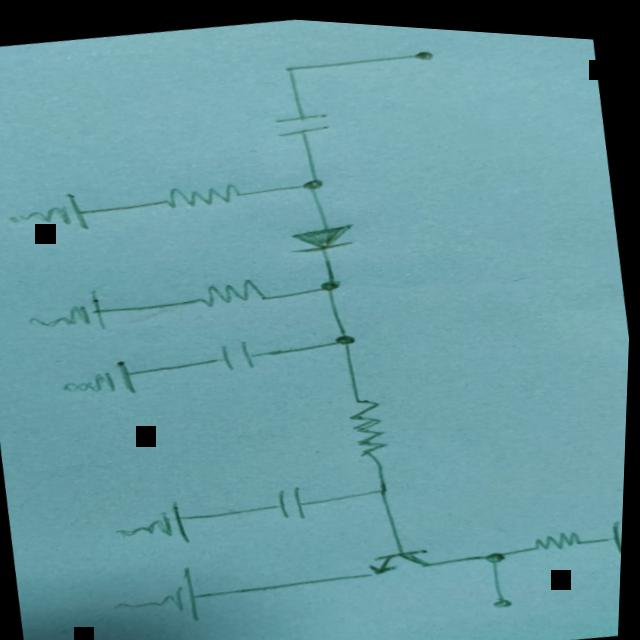capacitor: (277, 102, 332, 139), (273, 478, 319, 518), (218, 334, 261, 370)
diode: (290, 213, 359, 255)
ground: (106, 556, 218, 634), (24, 281, 116, 342), (5, 183, 100, 242), (111, 491, 201, 553), (59, 350, 149, 405)
junction: (297, 169, 330, 191), (315, 271, 346, 293), (483, 541, 514, 561), (331, 326, 362, 345), (277, 56, 305, 76), (372, 477, 397, 494)
resistor: (349, 388, 396, 455), (165, 175, 248, 212), (202, 270, 274, 308), (530, 520, 593, 549)
source: (608, 509, 626, 546)
terminal: (407, 39, 440, 59), (492, 585, 519, 605)
transistor: (367, 535, 443, 575)
